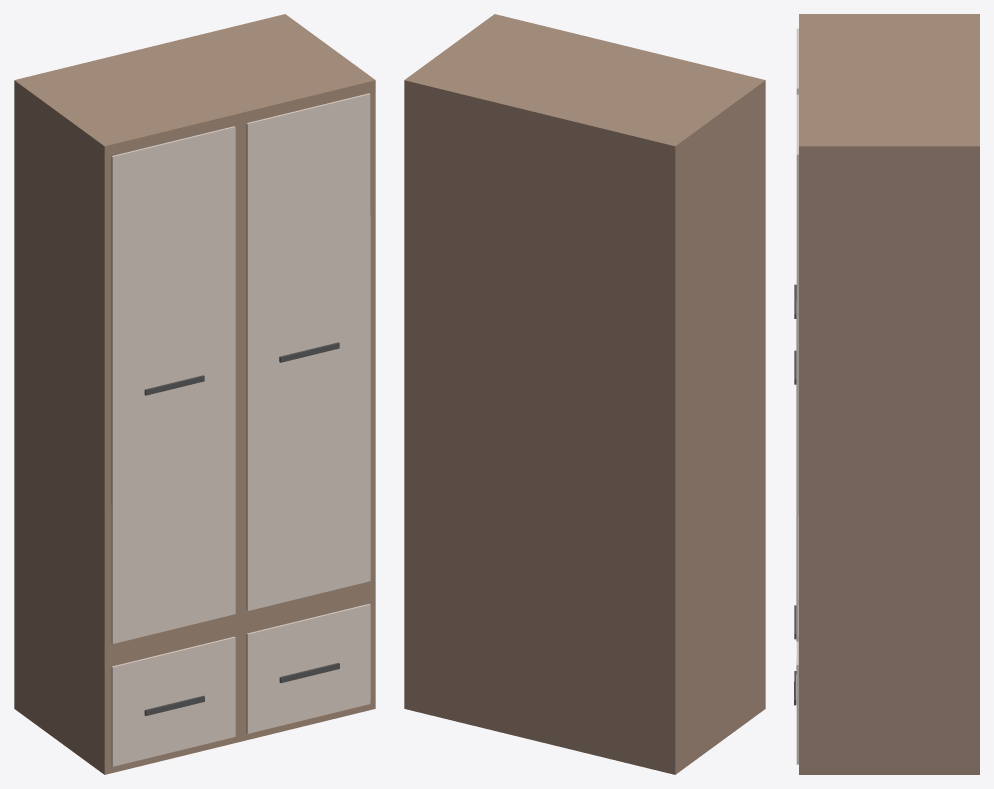
File: Cupboard_3.fbx
3 views of the same model, side by side, from view 1: azimuth 30°, elevation 25°; view 2: azimuth 150°, elevation 25°; view 3: azimuth 270°, elevation 25° (orthographic).
Parts seen in each view (by area): view 1: Cupboard_3; view 2: Cupboard_3; view 3: Cupboard_3.
Part boxes in pixels (x1,y1,x2,y2): Cupboard_3: [14, 14, 375, 774]; Cupboard_3: [404, 14, 765, 774]; Cupboard_3: [794, 14, 979, 774].
Size of the model in its own units: 138 by 82.03 by 306.
